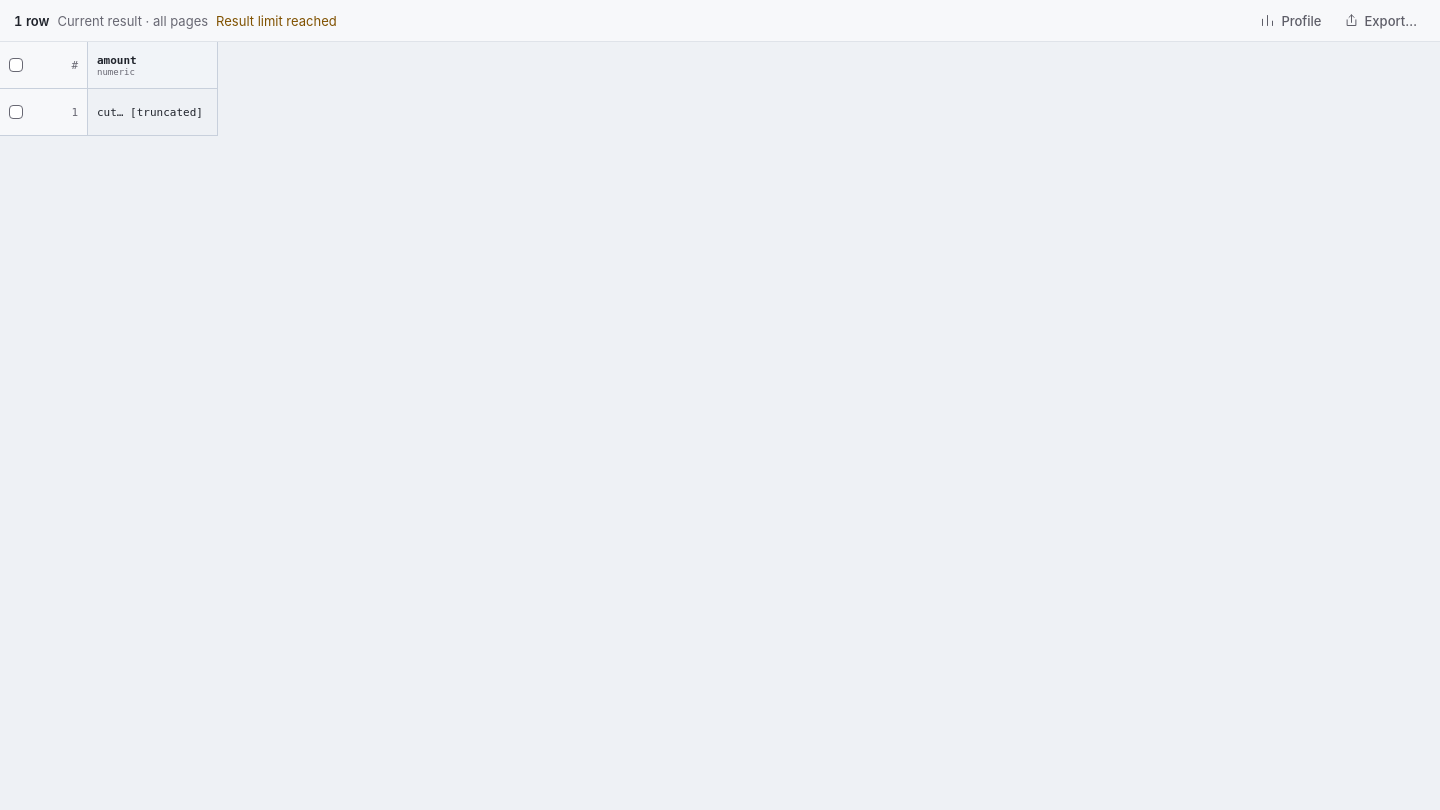
Test: query result tools › requires acknowledging incomplete cells and shows save failures
Click the button "Export…": (1380, 20) [1334,6,1426,34]
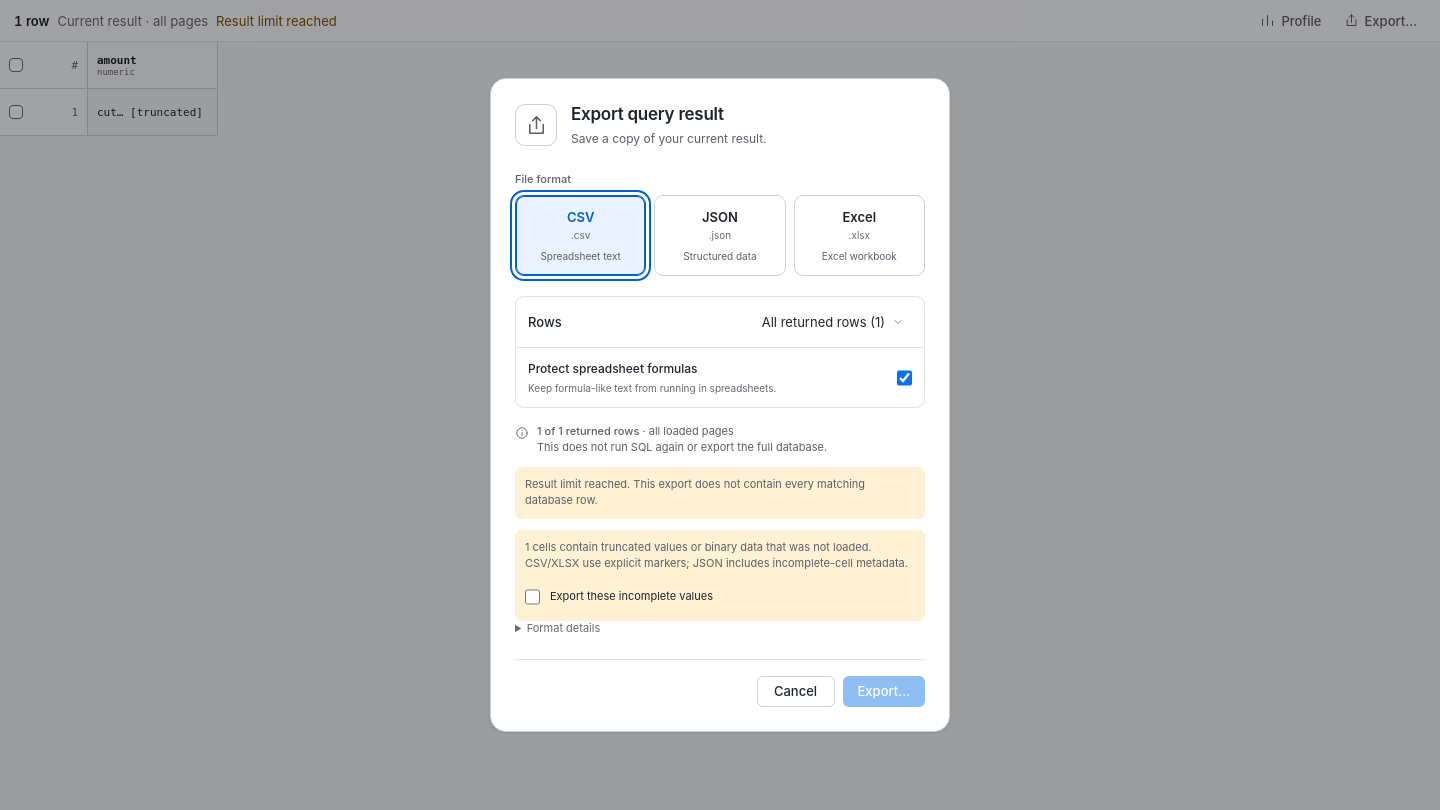
expect the button "Export…" is disabled: met, box [842,676,925,707]
Click the checkbox labelled "Export these incomplete values": (532, 597) [525,583,540,611]
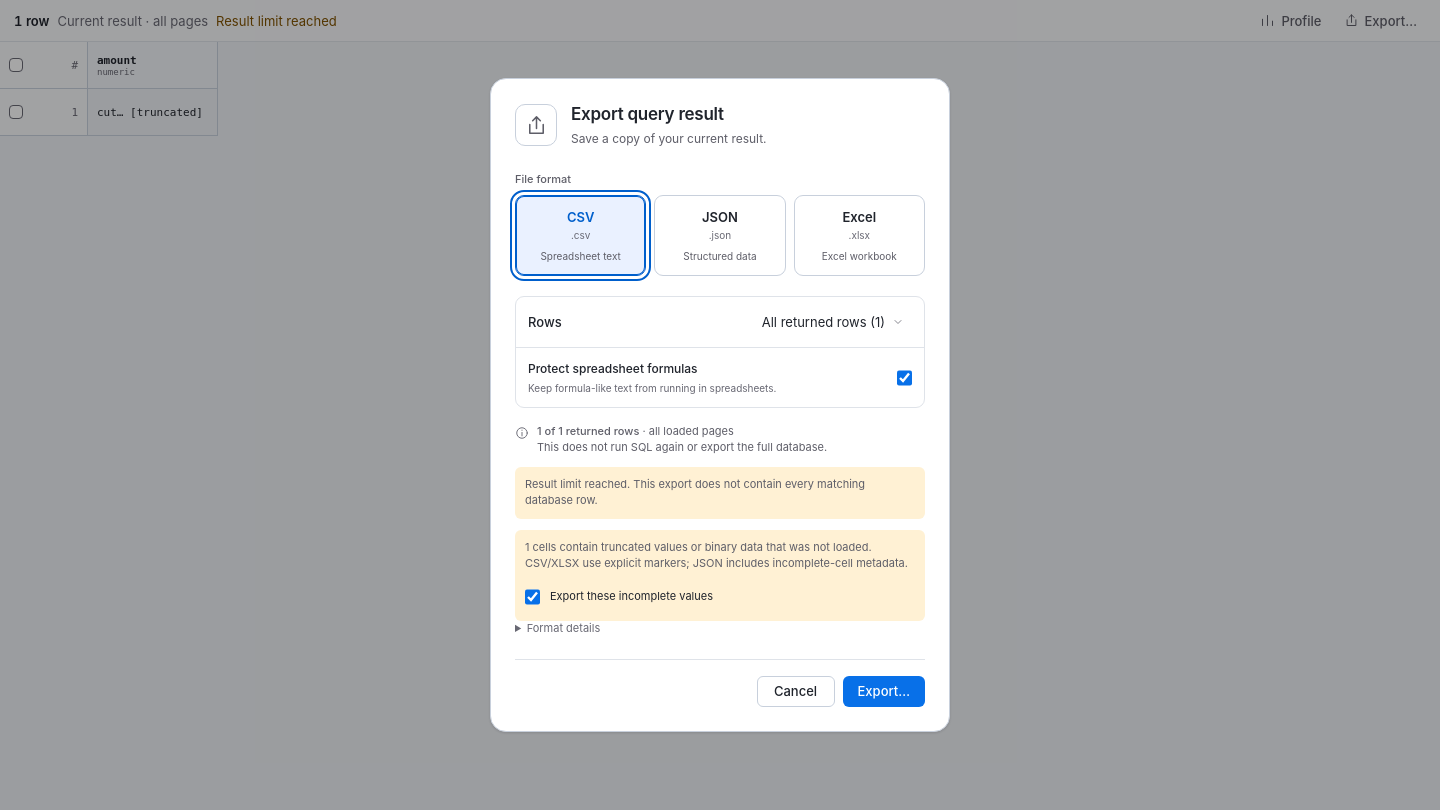
Click the button "Export…": (884, 691) [842,676,925,707]
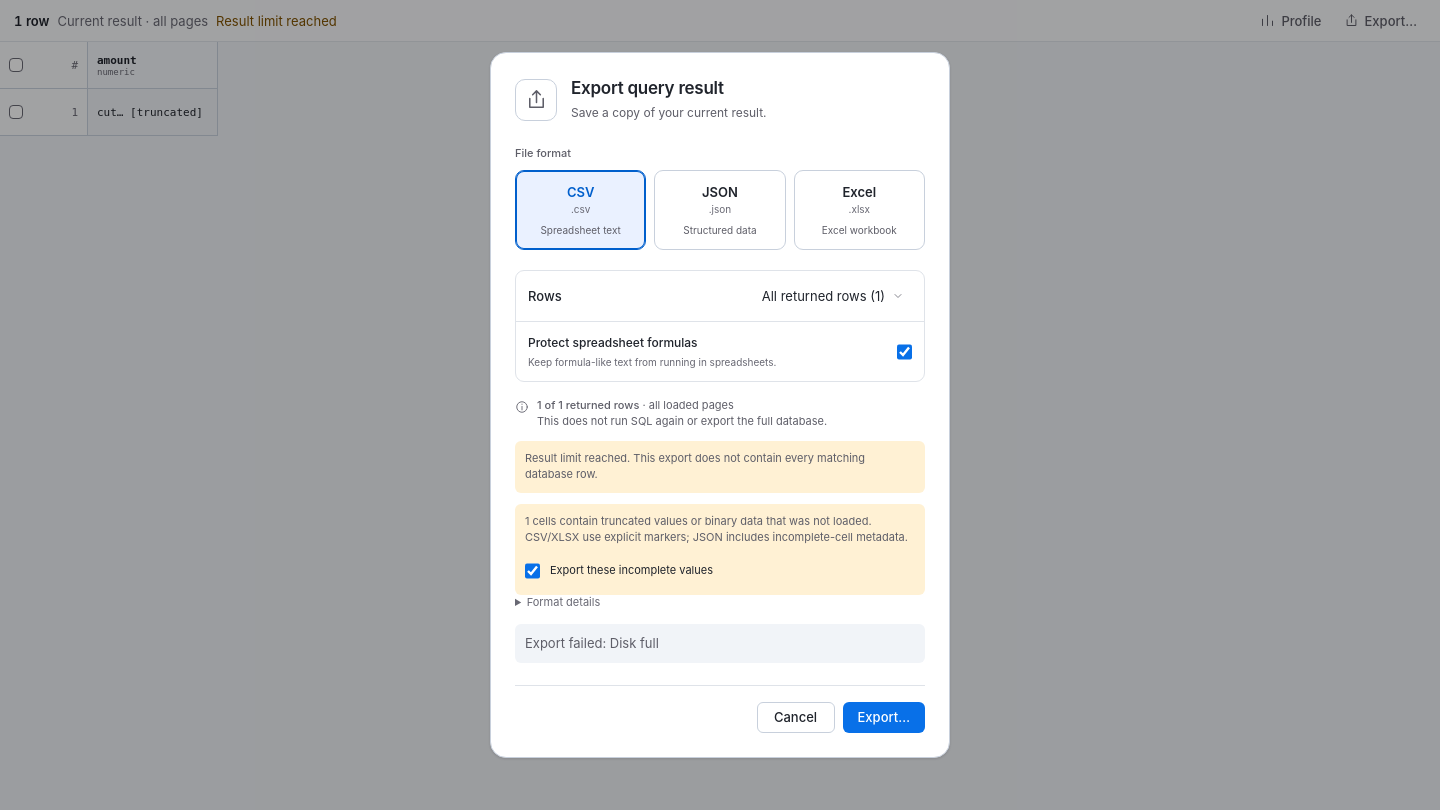
expect the message shows "Disk full": met, box [525,635,659,651]
